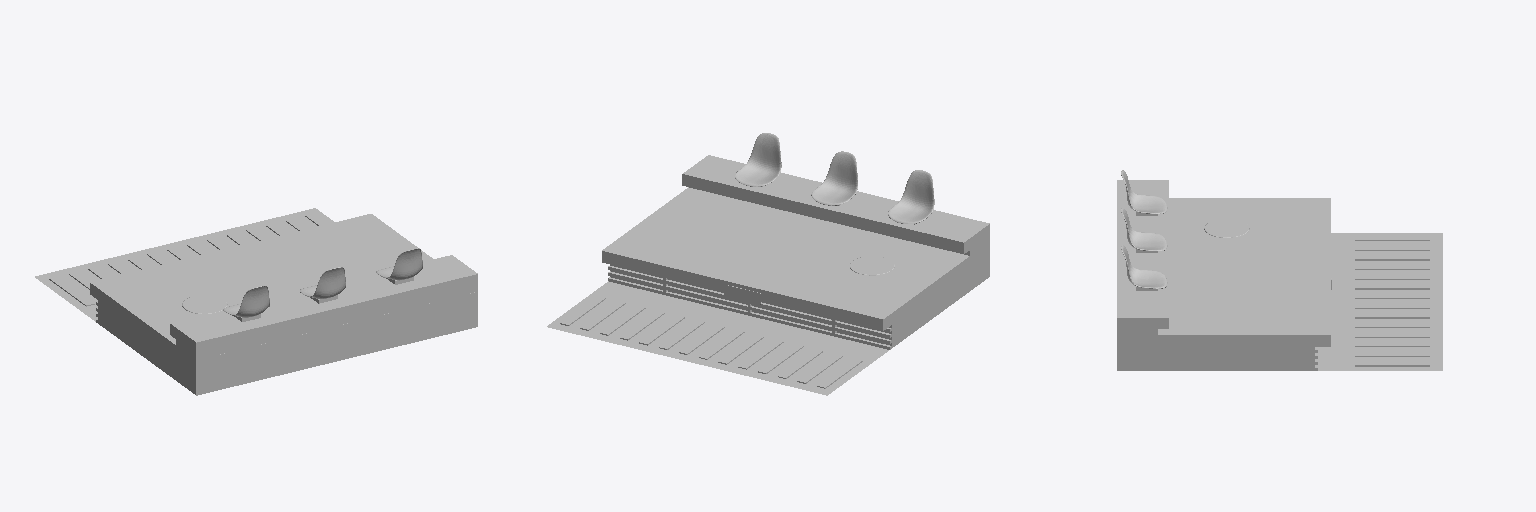
File: orelsan_base-scene.obj
The picture shows the model from 3 angles: view 1: azimuth 30°, elevation 25°; view 2: azimuth 150°, elevation 25°; view 3: azimuth 270°, elevation 25°; orthographic projection.
Visible parts, largest first — view 1: Base_quai, Base_sièges, Base_scène, Bandes, Siège_2, Siège_3, Siège_1, Cylinder; view 2: Base_quai, Base_scène, Base_sièges, Bandes, Sous-quai, Siège_2, Siège_1, Siège_3, Cylinder; view 3: Base_quai, Base_scène, Bandes, Base_sièges, Siège_3, Siège_1, Siège_2, Cylinder.
Boxes of the visible parts, x1,y1,x2,y2 form: Base_quai: [90, 214, 477, 395]; Base_sièges: [170, 255, 477, 359]; Base_scène: [35, 208, 333, 321]; Bandes: [49, 214, 327, 306]; Siège_2: [300, 267, 345, 303]; Siège_3: [376, 248, 422, 284]; Siège_1: [223, 286, 269, 321]; Cylinder: [182, 295, 227, 313]; Base_quai: [602, 187, 989, 347]; Base_scène: [547, 281, 888, 395]; Base_sièges: [682, 155, 989, 255]; Bandes: [560, 296, 862, 388]; Sous-quai: [608, 266, 891, 349]; Siège_2: [811, 151, 857, 205]; Siège_1: [888, 170, 934, 224]; Siège_3: [735, 133, 781, 186]; Cylinder: [850, 256, 894, 275]; Base_quai: [1117, 198, 1330, 370]; Base_scène: [1318, 233, 1442, 370]; Bandes: [1355, 236, 1429, 366]; Base_sièges: [1117, 180, 1168, 334]; Siège_3: [1121, 245, 1167, 290]; Siège_1: [1121, 170, 1167, 215]; Siège_2: [1121, 208, 1167, 252]; Cylinder: [1204, 219, 1249, 237].
Bounding box in the file's own units: 500 × 156 × 500.